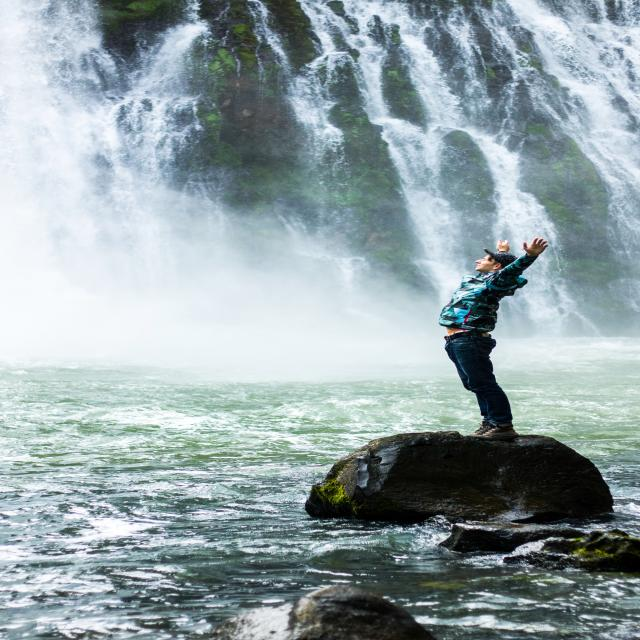adult: (437, 237, 548, 436)
